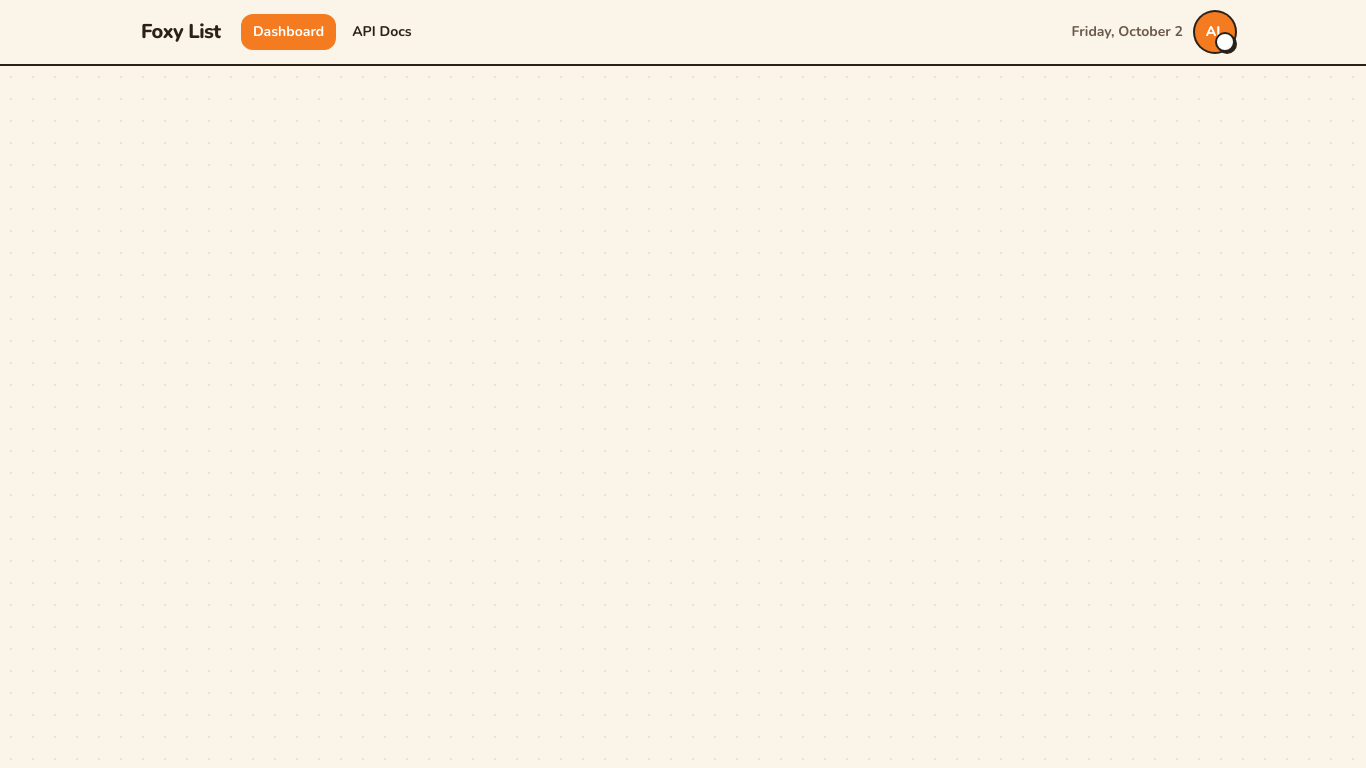
View Profile in the account menu › sits directly below the email address
Click the button with aria-label "Open account menu" at (1215, 32), box [1195,12,1235,52]
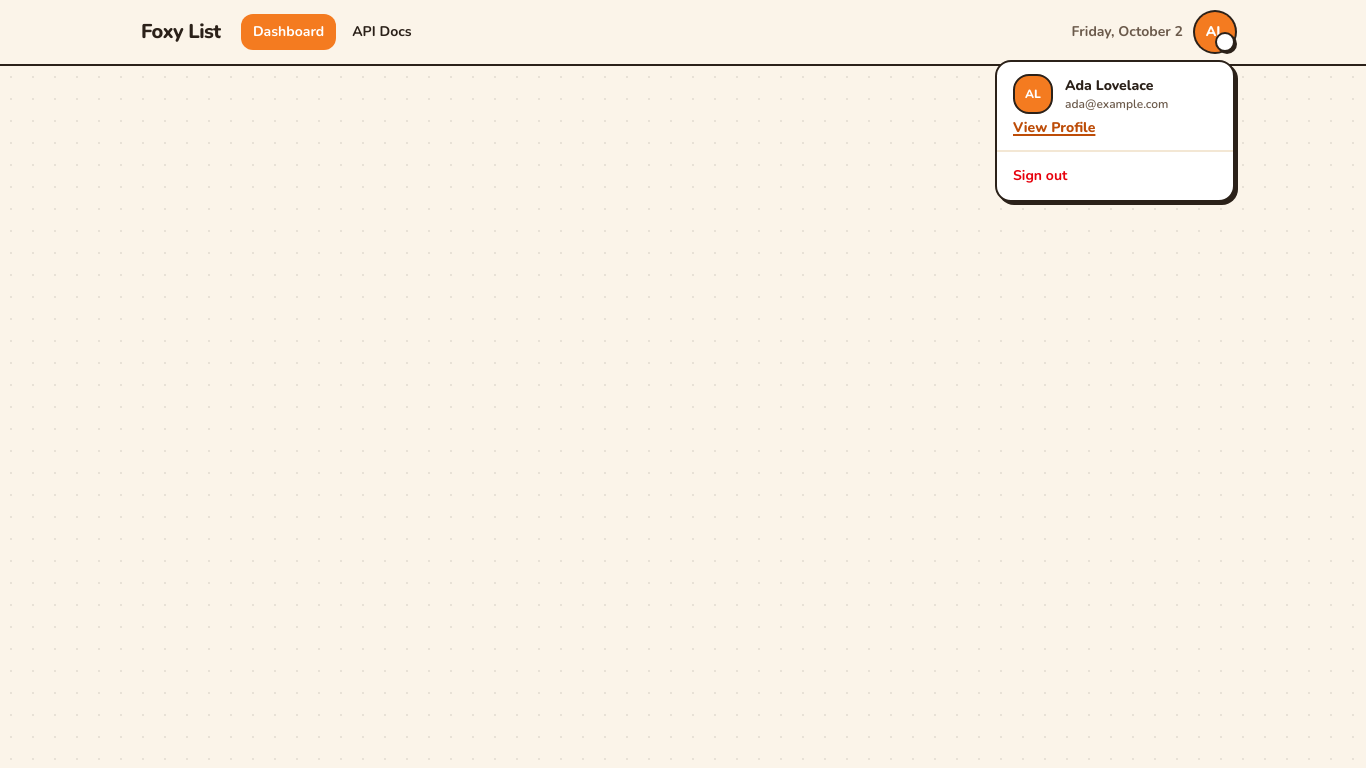
Result: the text "ada@example.com" is shown at [1065,96,1168,112]
Result: the menu item "View Profile" is shown at [1013,118,1095,138]
